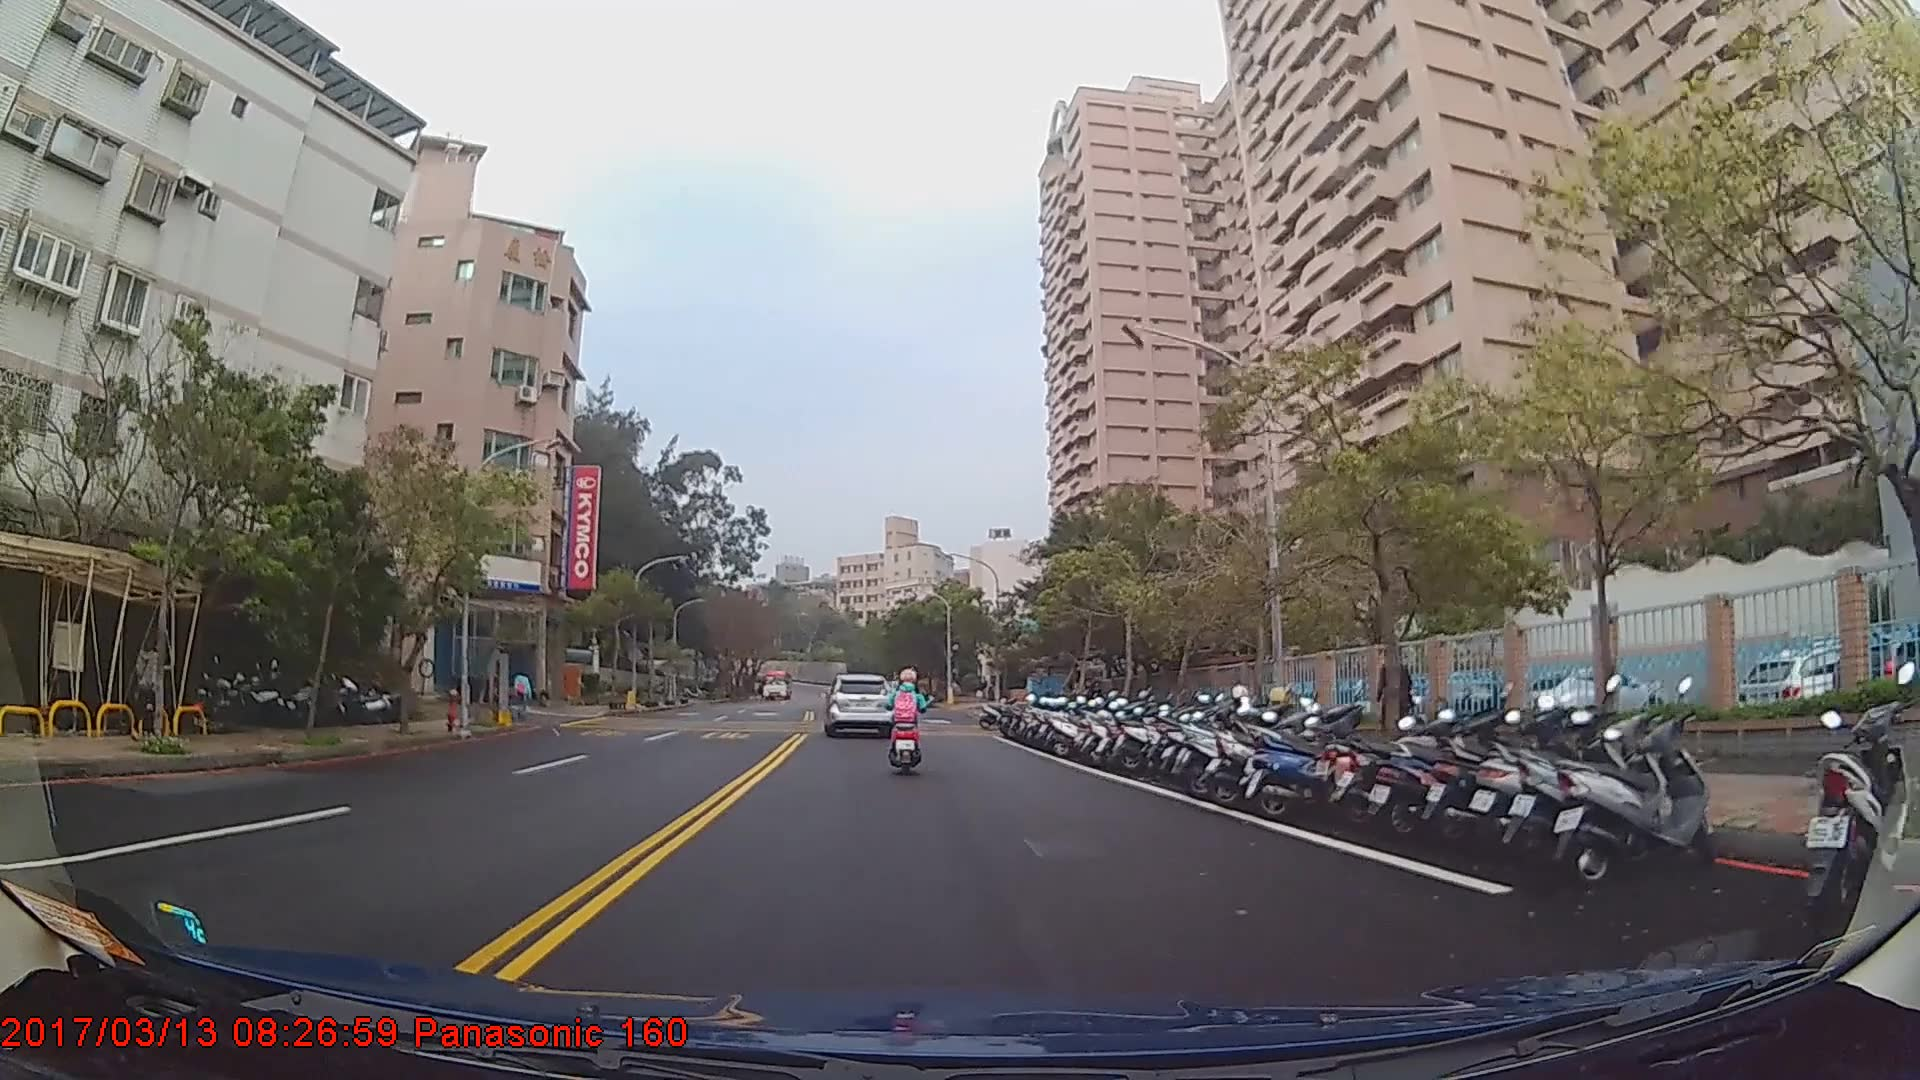pedestrian: (1376, 650, 1422, 762), (134, 632, 167, 748), (511, 665, 535, 719)
rider: (883, 672, 929, 784)
vehicle: (824, 673, 894, 734), (759, 667, 793, 702)
